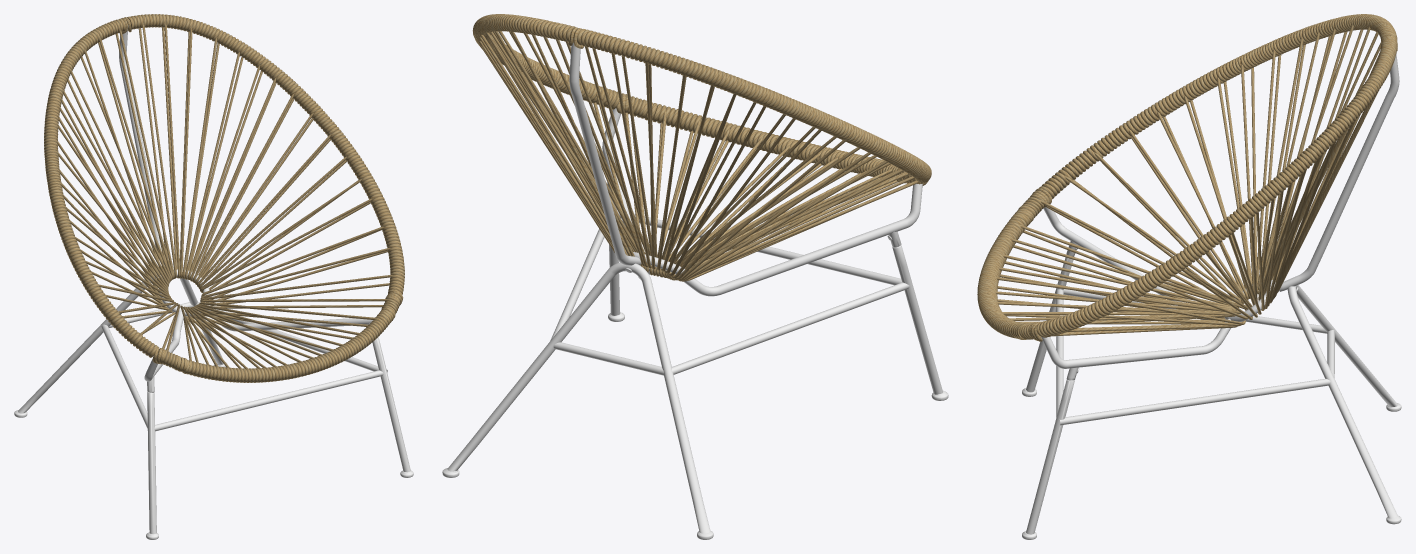
3 views of the same model, side by side, from view 1: azimuth 30°, elevation 25°; view 2: azimuth 150°, elevation 25°; view 3: azimuth 270°, elevation 25° (orthographic). The views are drawn at different scales.
Visible parts, largest first — view 1: 14_CC1216J01_tela (Model3D), 12_CC1216J01_metal (Model3D); view 2: 14_CC1216J01_tela (Model3D), 12_CC1216J01_metal (Model3D); view 3: 14_CC1216J01_tela (Model3D), 12_CC1216J01_metal (Model3D).
Boxes of the visible parts, <box> form: 14_CC1216J01_tela (Model3D): <box>44,14,404,382</box>; 12_CC1216J01_metal (Model3D): <box>14,25,413,539</box>; 14_CC1216J01_tela (Model3D): <box>472,14,931,281</box>; 12_CC1216J01_metal (Model3D): <box>442,42,948,539</box>; 14_CC1216J01_tela (Model3D): <box>977,14,1397,341</box>; 12_CC1216J01_metal (Model3D): <box>1022,54,1401,539</box>.
Bounding box in the file's own units: 0.72 × 0.8398 × 0.75.
3 materials, 2 textured.
